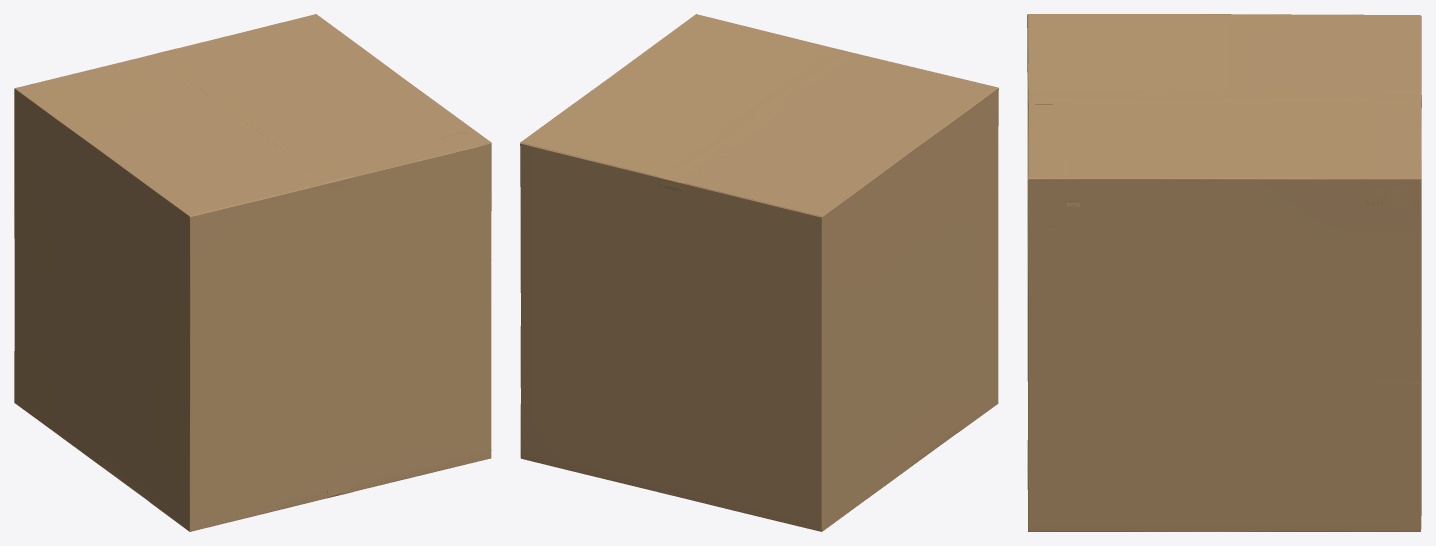
Rendered from box_corrugated_white_a13.glb.
3 views of the same model, side by side, from view 1: azimuth 30°, elevation 25°; view 2: azimuth 150°, elevation 25°; view 3: azimuth 270°, elevation 25° (orthographic). The views are drawn at different scales.
Bounding box in the file's own units: 0.61 × 0.6096 × 0.6162.
